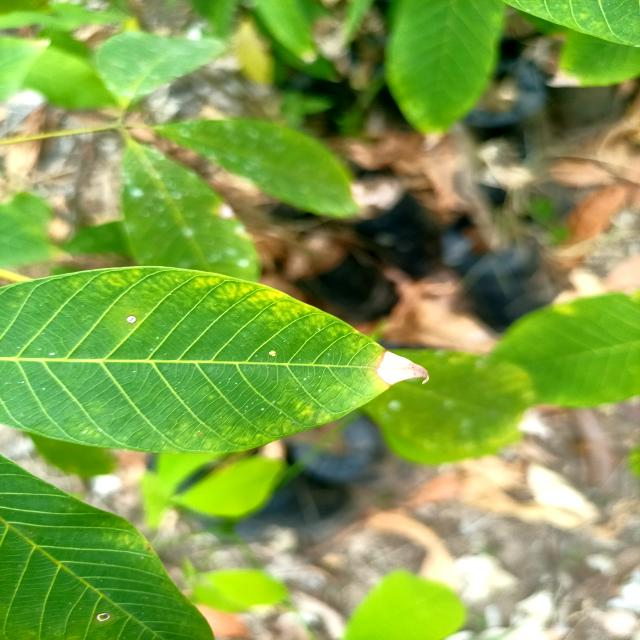Colletotrichum: (126, 315, 137, 323)
Leaf-Blight: (377, 349, 430, 386)
